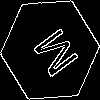M: (25, 25, 80, 86)
